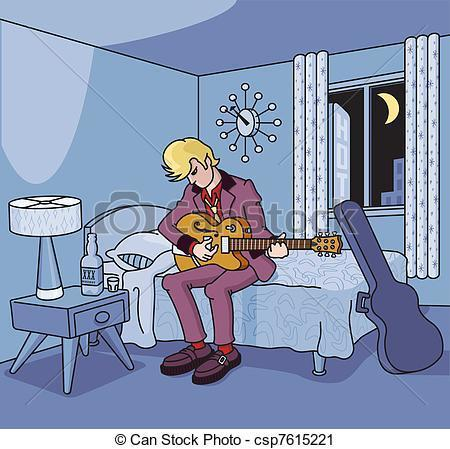bottle: (78, 233, 106, 297)
person: (154, 137, 286, 383)
